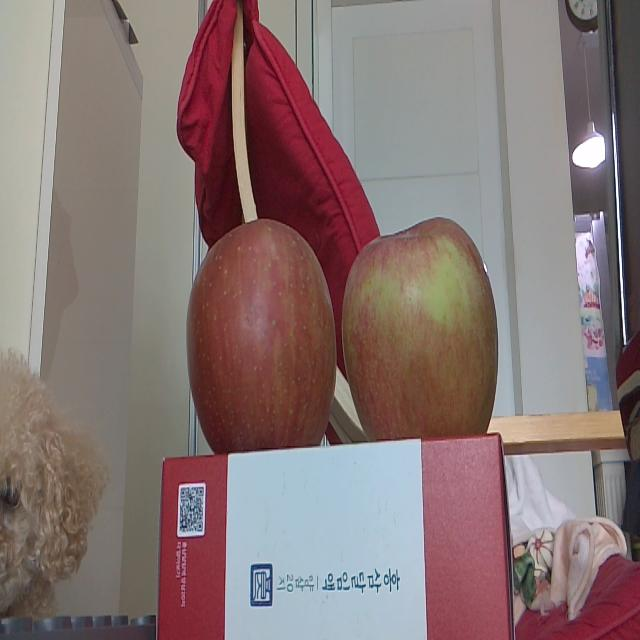apple: (340, 216, 500, 446), (185, 220, 341, 453)
